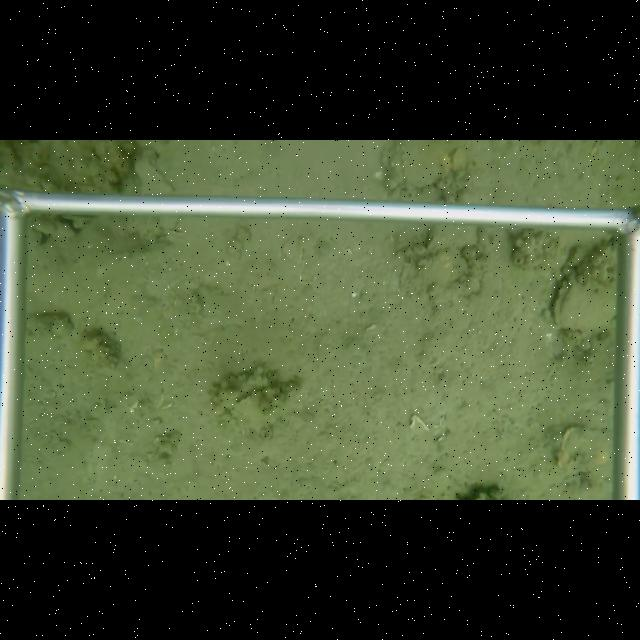Oyster-Closed: (548, 234, 618, 333), (376, 141, 452, 196), (225, 385, 290, 425), (415, 246, 471, 290), (424, 226, 481, 251)
